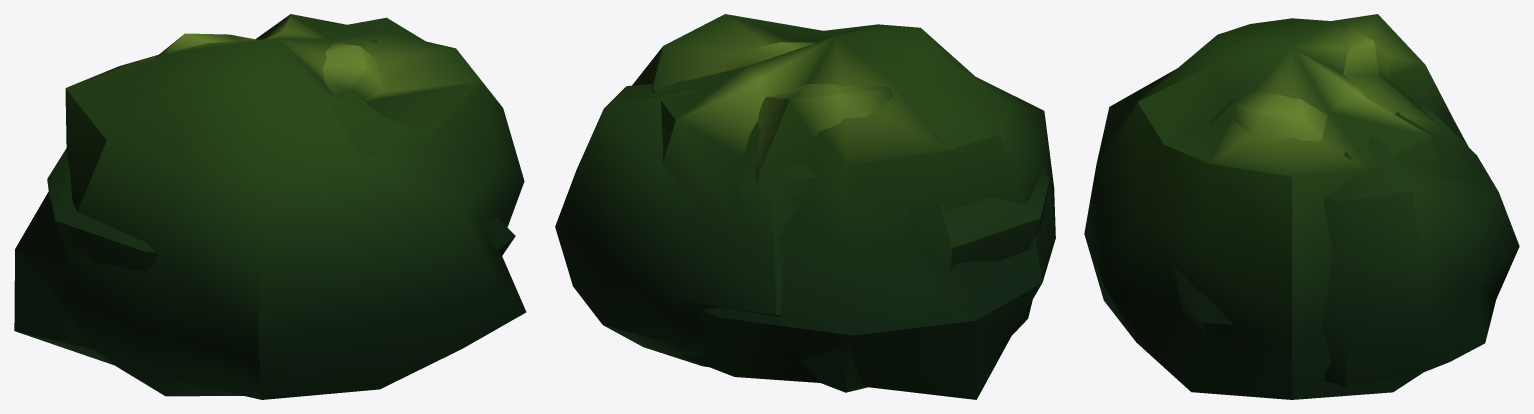
Rendered from hz-tea-bush-a.glb.
3 views of the same model, side by side, from view 1: azimuth 30°, elevation 25°; view 2: azimuth 150°, elevation 25°; view 3: azimuth 270°, elevation 25° (orthographic). The views are drawn at different scales.
Parts seen in each view (by area): view 1: leaves__plant; view 2: leaves__plant; view 3: leaves__plant.
Part boxes in pixels (x1,y1,x2,y2): leaves__plant: (14,14,526,399); leaves__plant: (555,14,1055,399); leaves__plant: (1084,14,1519,399).
Bounding box in the file's own units: 0.8983 × 0.5707 × 0.7948.
